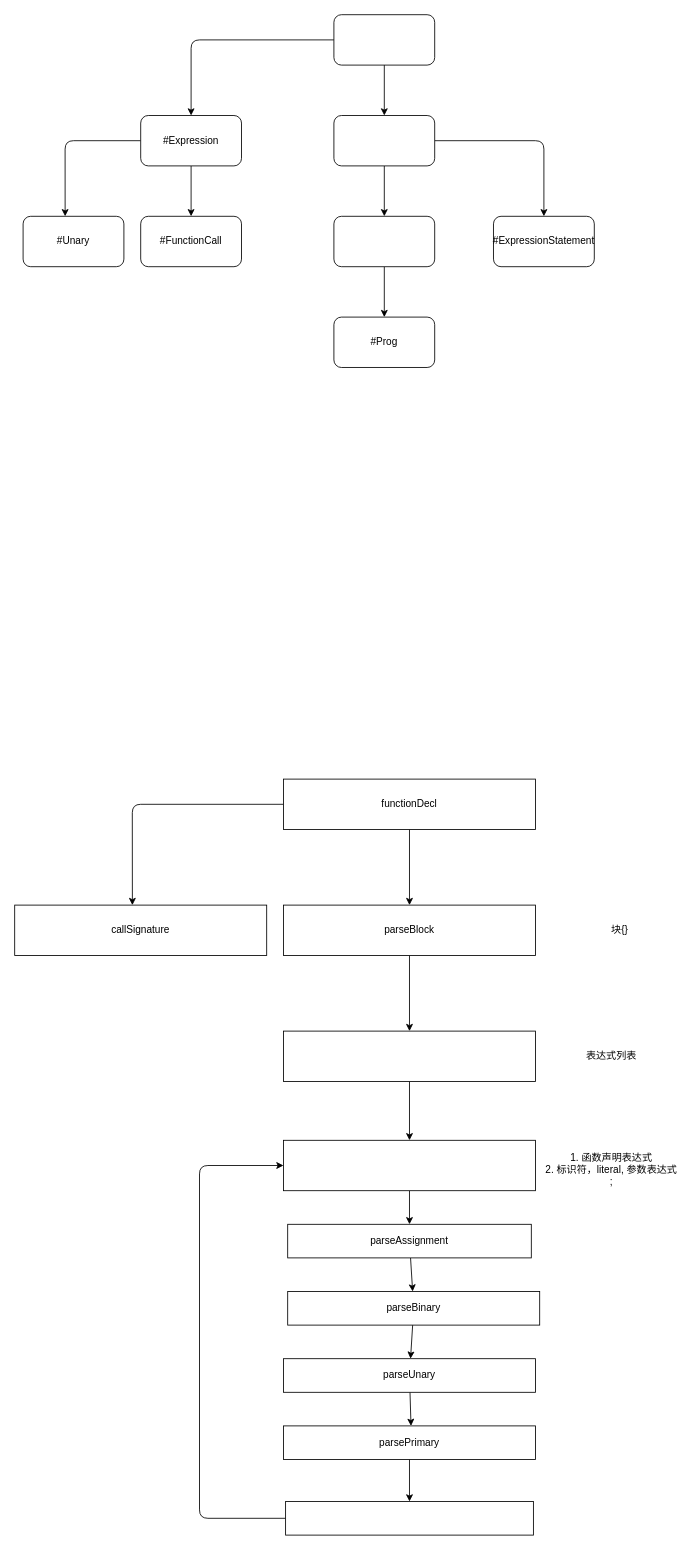
The diagram is 697 pixels wide and 1550 high, and some of its shapes have lost their labels. Here are the shapes that lost their labels. From the top down, the centre of each, then its label:
At point 384,39: "#ASTNode".
At point 384,140: "#Statement".
At point 384,241: "#Bolck".
At point 409,1056: "parseExpressionStatement".
At point 409,1165: "parseExpressoin".
At point 409,1518: "parseFunctionCall".
